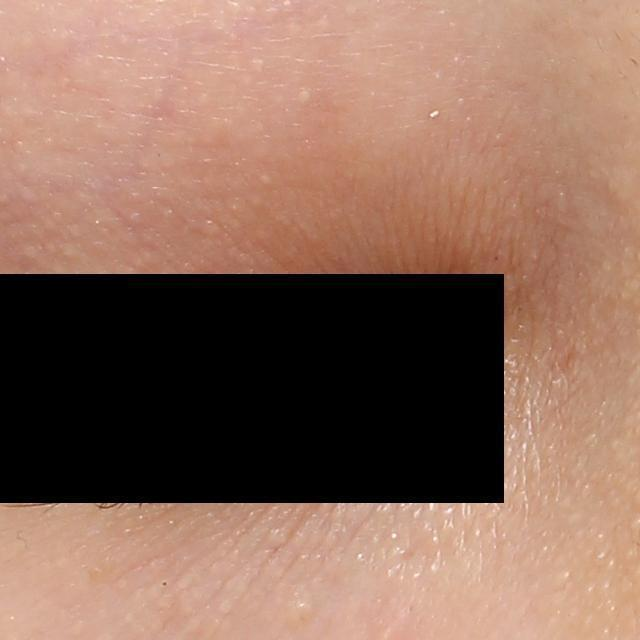comedo: (159, 577, 172, 590)
